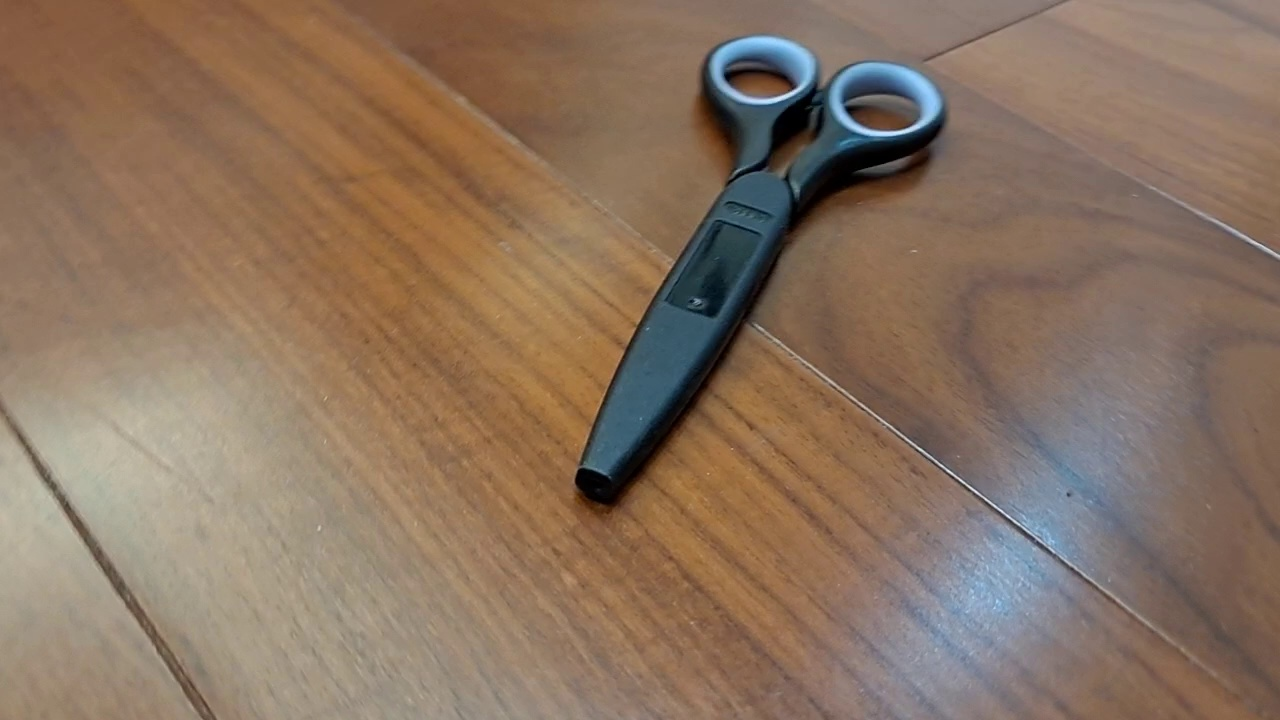scissors: (573, 31, 948, 504)
